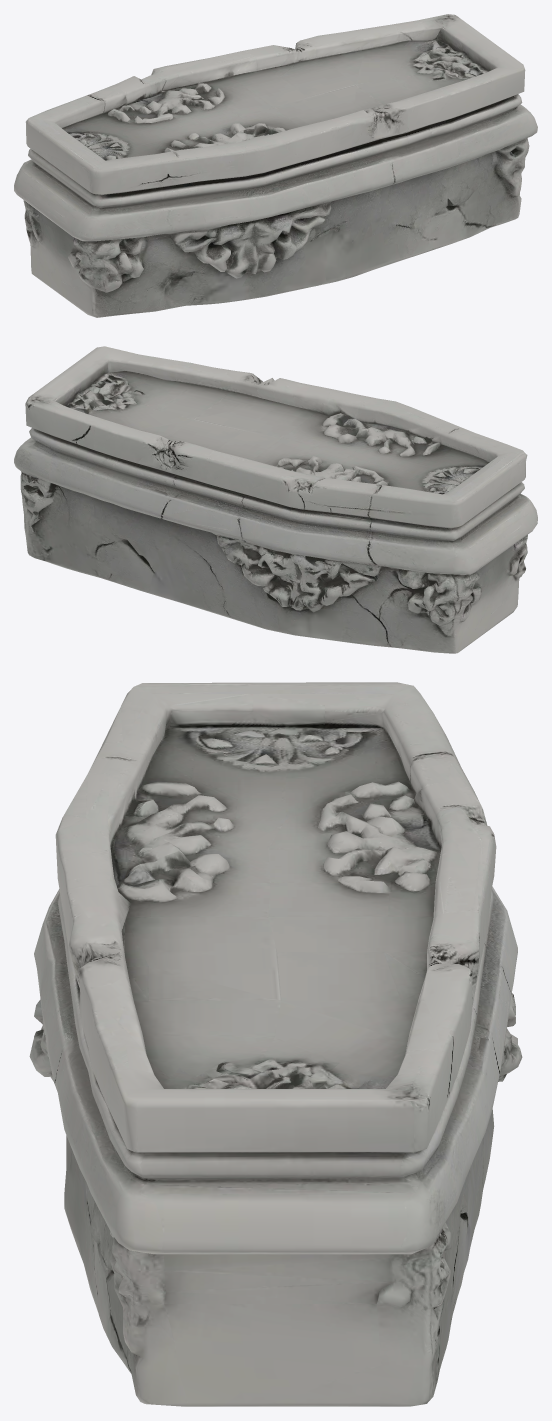
File: coffin.glb
3 views of the same model, one above another, from view 1: azimuth 30°, elevation 25°; view 2: azimuth 150°, elevation 25°; view 3: azimuth 270°, elevation 25° (orthographic). The views are drawn at different scales.
Size of the model in its own units: 1.91 by 0.6146 by 0.8884.
1 material, 1 textured.
